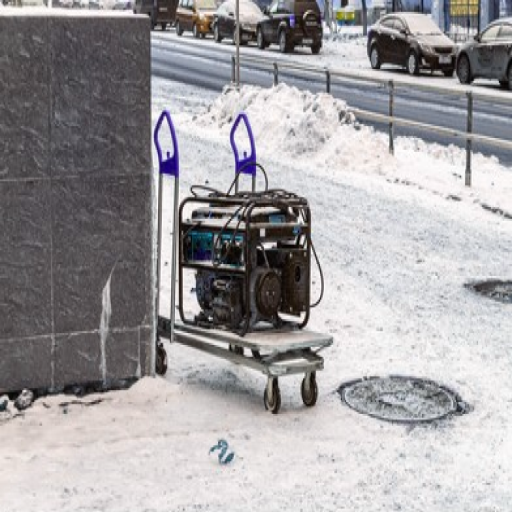portable_generator: (179, 191, 313, 334)
